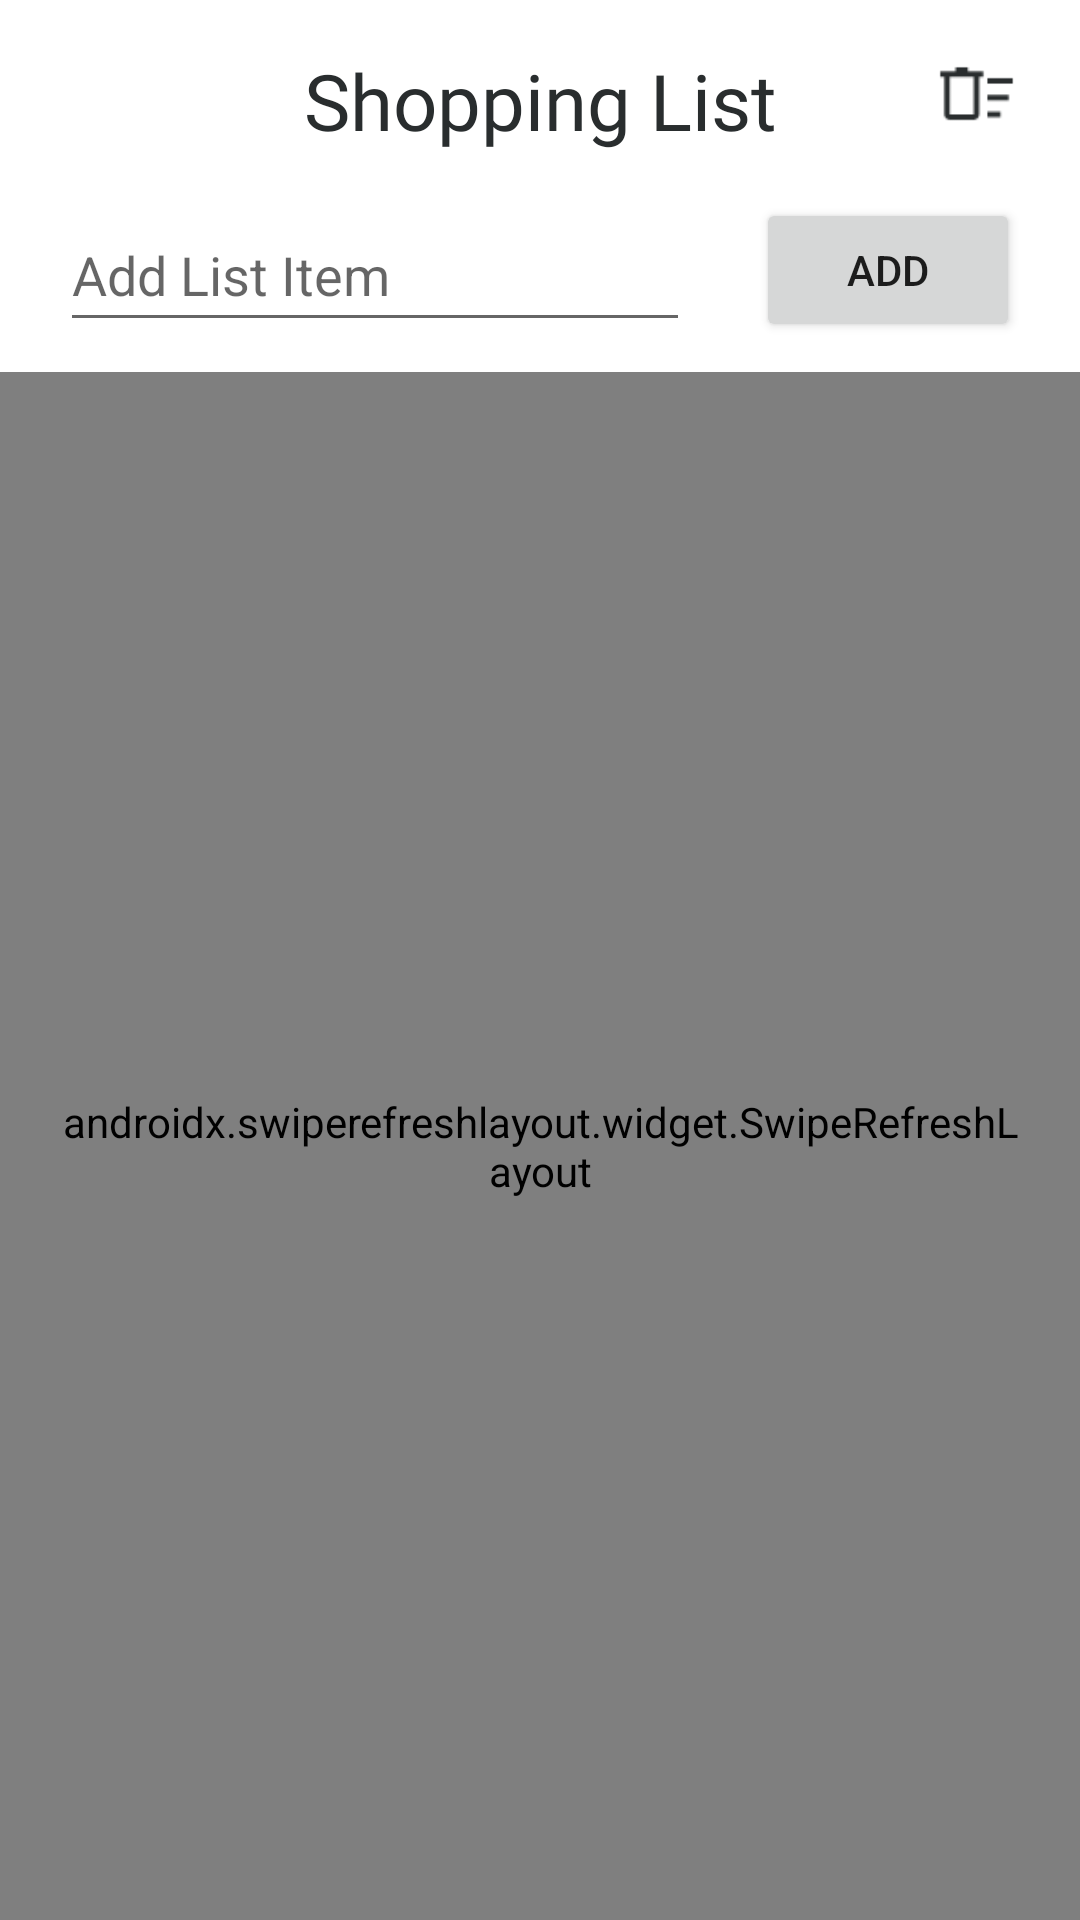

Icon bounding boxes for this 1080px x 1920px phone screenshot, format box=[x1, y1, x2, y2]:
sweep: box=[940, 67, 1013, 121]
